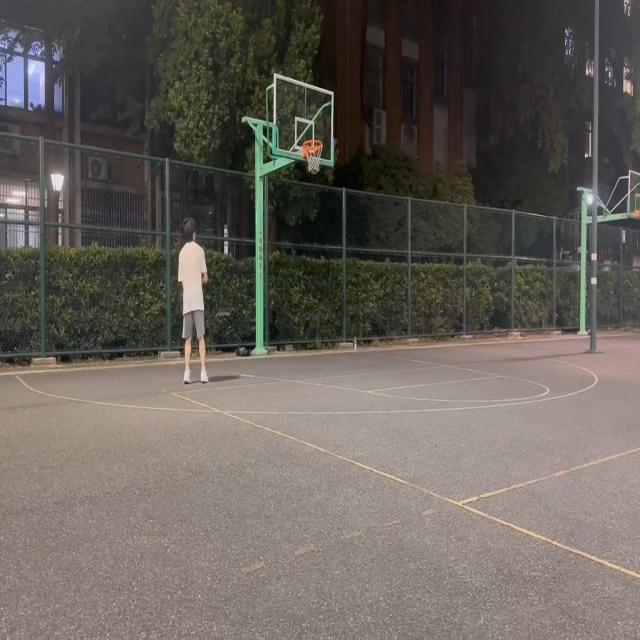basketball: (302, 139, 323, 175)
